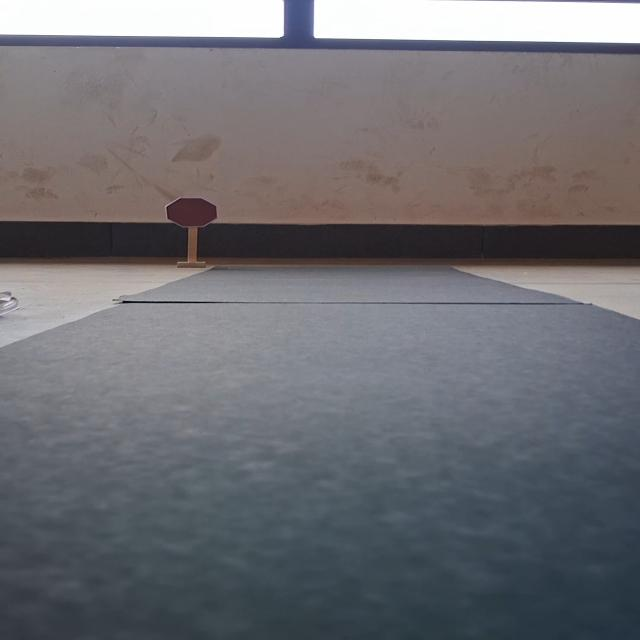Stop: (166, 198, 218, 228)
